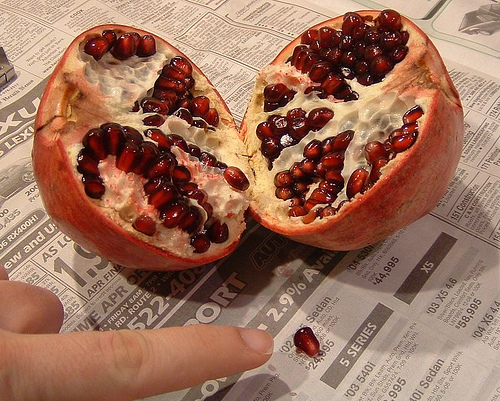pomogranate: (33, 10, 463, 270)
